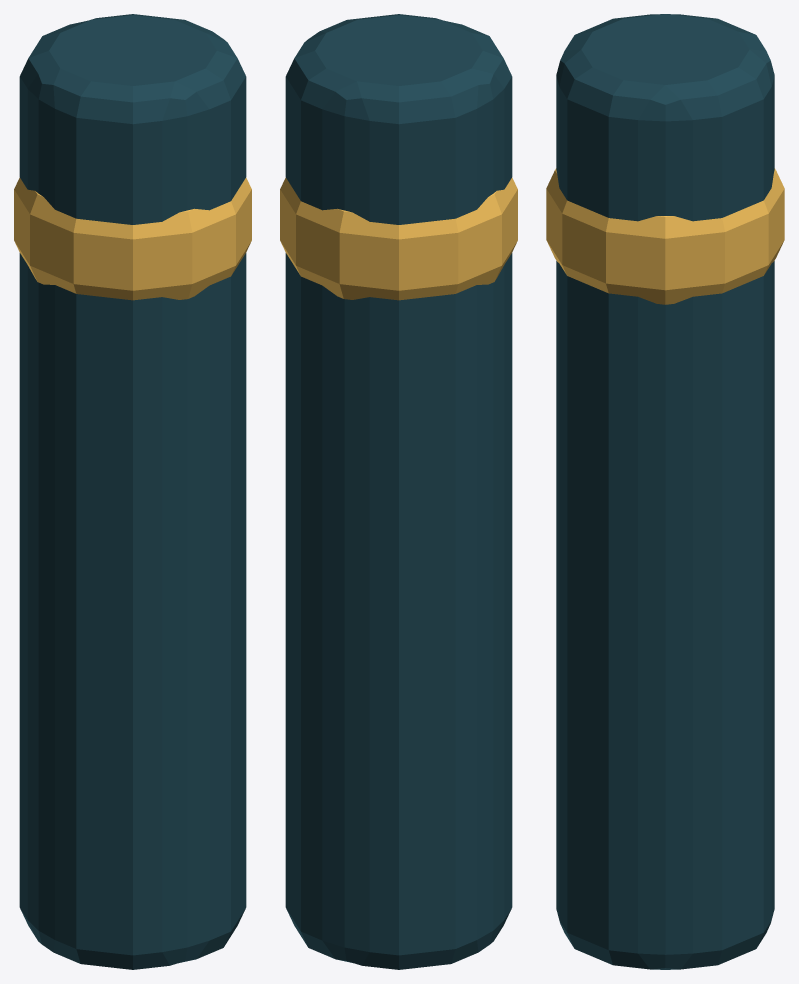
Rendered from bollard.glb.
3 renders of one model, left to right at view 1: azimuth 30°, elevation 25°; view 2: azimuth 150°, elevation 25°; view 3: azimuth 270°, elevation 25°, orthographic.
Visible parts, largest first — view 1: Bollard, Reflective band; view 2: Bollard, Reflective band; view 3: Bollard, Reflective band.
Part boxes in pixels (<box>): Bollard: <box>19,14,246,969</box>; Reflective band: <box>14,177,251,300</box>; Bollard: <box>285,14,512,969</box>; Reflective band: <box>280,177,517,300</box>; Bollard: <box>556,14,774,969</box>; Reflective band: <box>546,168,784,304</box>.
Bounding box in the file's own units: 0.21 × 0.86 × 0.21.
